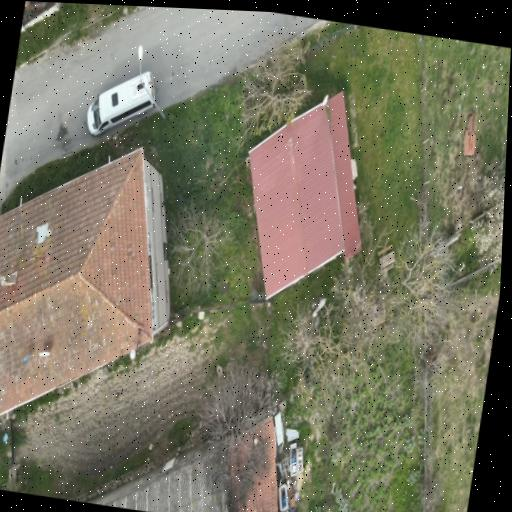bus: (87, 71, 157, 136)
